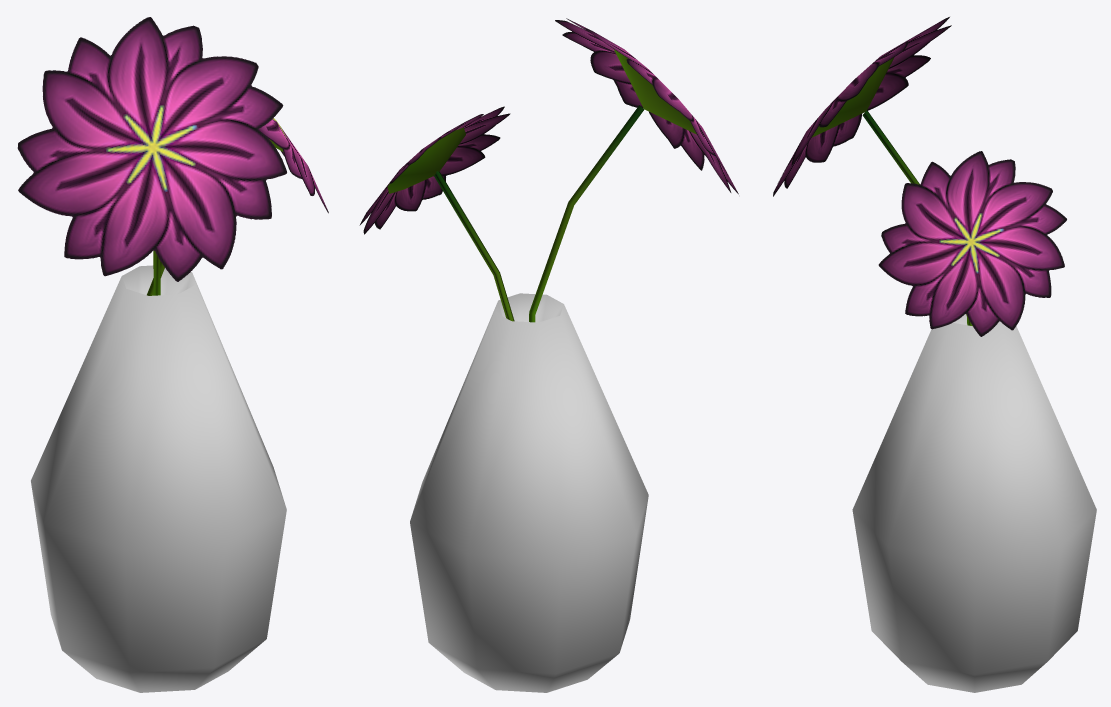
The model's file is Flowers_C.FBX.
The picture shows the model from 3 angles, left to right: view 1: azimuth 30°, elevation 25°; view 2: azimuth 150°, elevation 25°; view 3: azimuth 270°, elevation 25°; orthographic projection. The views are drawn at different scales.
Parts seen in each view (by area): view 1: Vase_And_Flowers; view 2: Vase_And_Flowers; view 3: Vase_And_Flowers.
Part boxes in pixels (x1=…): Vase_And_Flowers: x1=17, y1=17, x2=328, y2=692; Vase_And_Flowers: x1=359, y1=18, x2=738, y2=692; Vase_And_Flowers: x1=773, y1=17, x2=1096, y2=692.
Size of the model in its own units: 80.48 by 155 by 73.7.
